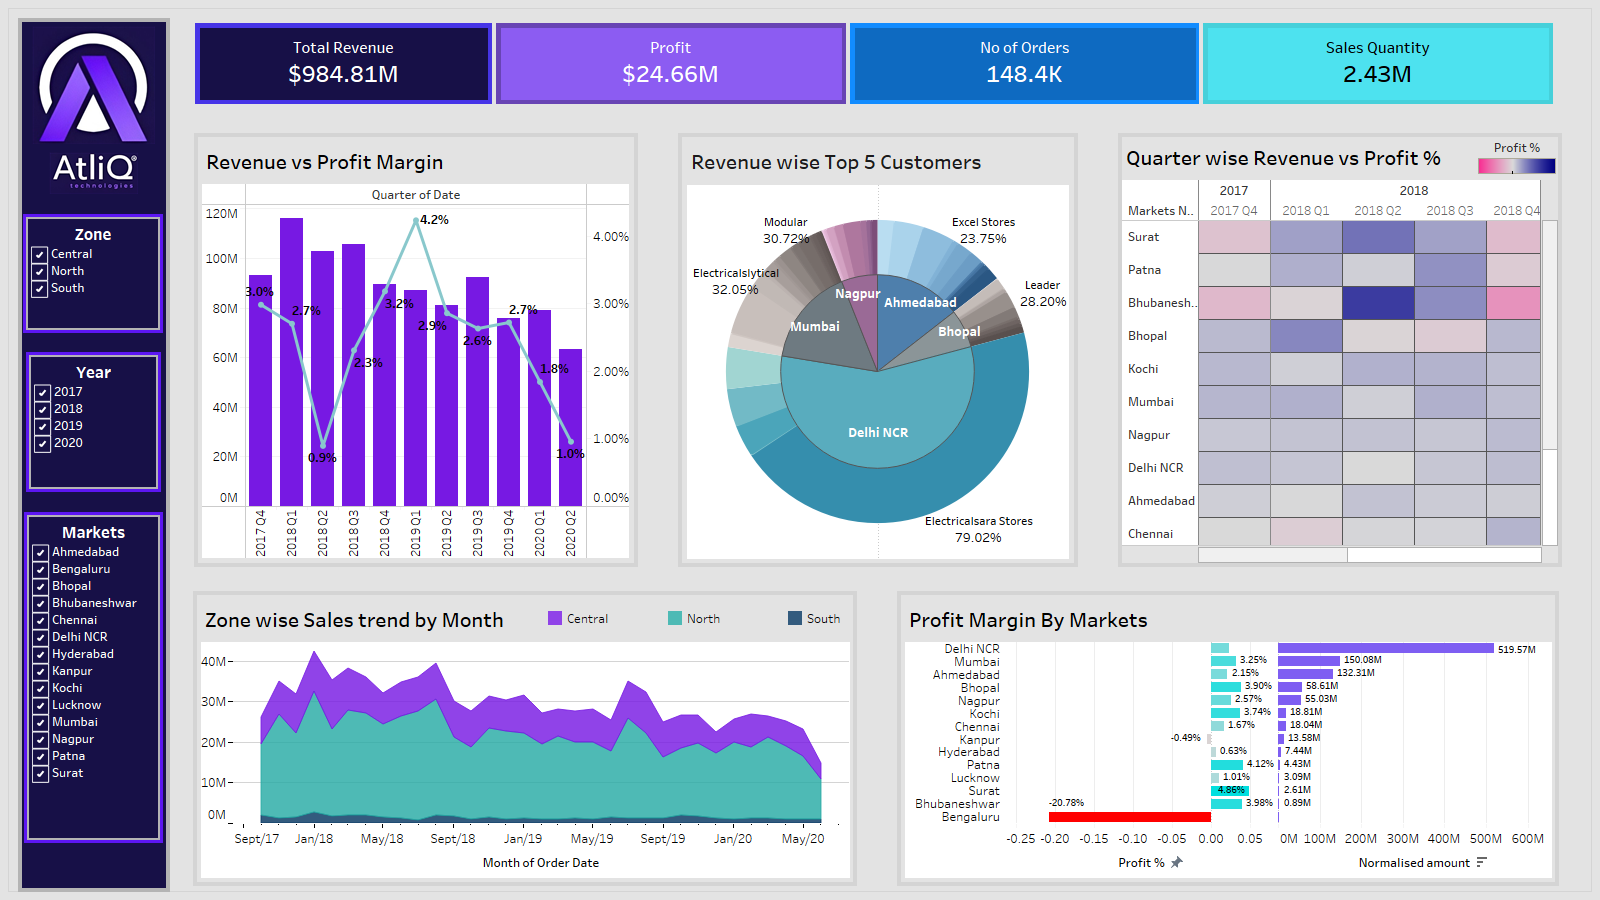

This screenshot's page, from the dashboard's own definition file:
{"tool":"tableau","page":{"name":"Dashboard","canvas":[1600,900],"ordinal":0},"visuals":[{"type":"worksheet","title":"Total Revenue","mark":"Automatic","box":[193,21,301,85]},{"type":"worksheet","title":"Profits","mark":"Automatic","box":[494,21,353.7,85]},{"type":"worksheet","title":"No of Orders","mark":"Automatic","box":[847.7,21,353.7,85]},{"type":"worksheet","title":"Quantity","mark":"Automatic","box":[1201.3,21,353.7,85]},{"type":"image","param":"Image/aaff.JPG","box":[22,22,144,126]},{"type":"worksheet","title":"Revenue vs Profit Margin","mark":"Bar","rows":["Calculation_204632333896093696","Calculation_1261289406366846976"],"cols":["date"],"box":[190,129,452.5,442]},{"type":"blank","box":[642.5,129,32,442]},{"type":"worksheet","title":"Sunburst Top 5 Customers ","mark":"Pie","cols":["Calculation_532832157452247050","Calculation_532832157452247050"],"box":[674.5,129,407,442]},{"type":"blank","box":[1081.5,129,32,442]},{"type":"worksheet","title":"Profit% vs Region vs Quarter","mark":"Automatic","rows":["markets_name"],"cols":["date","date"],"box":[1113.5,129,452.5,442]},{"type":"blank","box":[1566,129,32,442]},{"type":"legend","title":"Profit% vs Region vs Quarter","param":"[federated.1s7wept1ho4jn911b0ke01wzdmou].[usr:Calculation_1261289406366846976:qk","box":[1474,135,86,39]},{"type":"image","param":"Image/awdfwefr.JPG","box":[22,148,144,50]},{"type":"filter","title":"Sales/Zone/Month","param":"[federated.1s7wept1ho4jn911b0ke01wzdmou].[none:zone:nk]","box":[23,214,140,119]},{"type":"filter","title":"Profit% vs Region vs Quarter","param":"[federated.1s7wept1ho4jn911b0ke01wzdmou].[yr:date:ok]","box":[22,348,143,148]},{"type":"filter","title":"Profit% vs Region vs Quarter","param":"[federated.1s7wept1ho4jn911b0ke01wzdmou].[none:markets_name:nk]","box":[24,512,139,331]},{"type":"worksheet","title":"Sales/Zone/Month","mark":"Area","rows":["sales_amount"],"cols":["order_date"],"box":[189,587,672,303]},{"type":"blank","box":[861,587,32,303]},{"type":"worksheet","title":"Profit Margin By Markets","mark":"Automatic","rows":["markets_name"],"cols":["Calculation_1261289406366846976","Calculation_204632333896093696"],"box":[893,587,670,303]},{"type":"blank","box":[1563,587,32,303]},{"type":"legend","title":"Sales/Zone/Month","param":"[federated.1s7wept1ho4jn911b0ke01wzdmou].[none:zone:nk]","box":[545,608,362,26]}]}

Visuals, with their boxes in screenshot pixels (x1, y1, x2, y2), scaled from the page's 1600x900 canvas onto the 1600x900 screenshot:
"Total Revenue" worksheet: (193, 21, 494, 106)
"Profits" worksheet: (494, 21, 848, 106)
"No of Orders" worksheet: (848, 21, 1201, 106)
"Quantity" worksheet: (1201, 21, 1555, 106)
image: (22, 22, 166, 148)
"Revenue vs Profit Margin" worksheet (Bar marks): (190, 129, 642, 571)
blank: (642, 129, 674, 571)
"Sunburst Top 5 Customers " worksheet (Pie marks): (674, 129, 1082, 571)
blank: (1082, 129, 1114, 571)
"Profit% vs Region vs Quarter" worksheet: (1114, 129, 1566, 571)
blank: (1566, 129, 1598, 571)
"Profit% vs Region vs Quarter" legend: (1474, 135, 1560, 174)
image: (22, 148, 166, 198)
"Sales/Zone/Month" filter: (23, 214, 163, 333)
"Profit% vs Region vs Quarter" filter: (22, 348, 165, 496)
"Profit% vs Region vs Quarter" filter: (24, 512, 163, 843)
"Sales/Zone/Month" worksheet (Area marks): (189, 587, 861, 890)
blank: (861, 587, 893, 890)
"Profit Margin By Markets" worksheet: (893, 587, 1563, 890)
blank: (1563, 587, 1595, 890)
"Sales/Zone/Month" legend: (545, 608, 907, 634)
